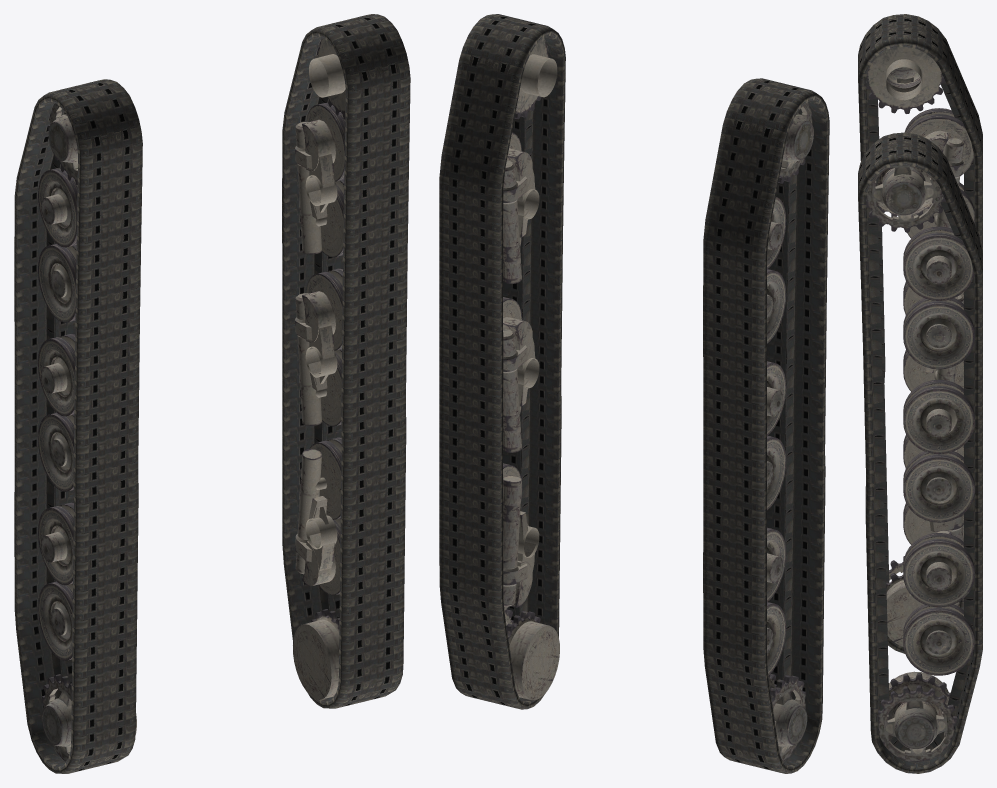
File: Chassis.glb
3 renders of one model, left to right at view 1: azimuth 30°, elevation 25°; view 2: azimuth 150°, elevation 25°; view 3: azimuth 270°, elevation 25°, orthographic. The views are drawn at different scales.
Parts seen in each view (by area): view 1: set_0_group_0, set_1_group_0, set_3_group_0, set_2_group_0; view 2: set_0_group_0, set_1_group_0, set_3_group_0, set_2_group_0; view 3: set_3_group_0, set_1_group_0, set_2_group_0, set_0_group_0.
Part boxes in pixels (<box>): set_0_group_0: <box>14,79,142,773</box>; set_1_group_0: <box>282,14,410,708</box>; set_3_group_0: <box>293,38,345,699</box>; set_2_group_0: <box>38,103,136,761</box>; set_0_group_0: <box>703,78,829,773</box>; set_1_group_0: <box>439,14,565,709</box>; set_3_group_0: <box>503,38,559,700</box>; set_2_group_0: <box>767,103,813,761</box>; set_3_group_0: <box>866,165,974,761</box>; set_1_group_0: <box>858,132,982,773</box>; set_2_group_0: <box>866,46,974,646</box>; set_0_group_0: <box>858,14,982,653</box>.
Size of the model in its own units: 3.42 by 6.77 by 1.24.
4 materials, 4 textured.
